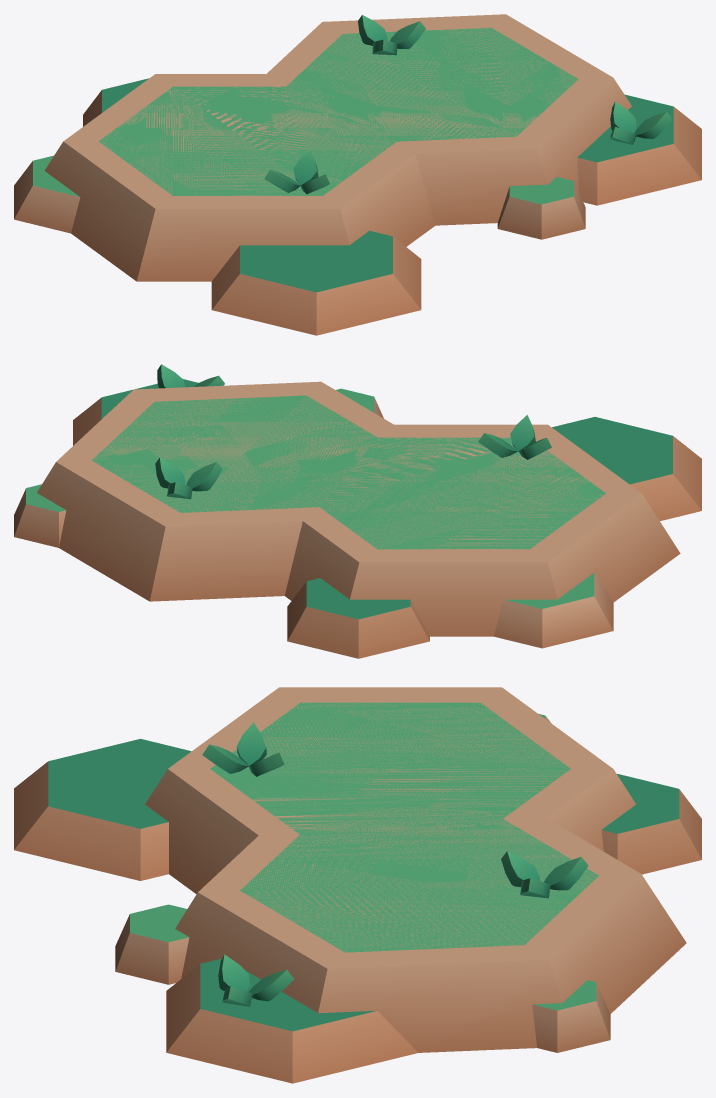
Rendered from rock-flat-grass.glb.
3 renders of one model, top to bottom at view 1: azimuth 30°, elevation 25°; view 2: azimuth 150°, elevation 25°; view 3: azimuth 270°, elevation 25°, orthographic. The views are drawn at different scales.
Visible parts, largest first — view 1: rock-flat-grass; view 2: rock-flat-grass; view 3: rock-flat-grass.
Boxes of the visible parts, x1=… form: rock-flat-grass: x1=14, y1=14, x2=701, y2=335; rock-flat-grass: x1=14, y1=364, x2=701, y2=658; rock-flat-grass: x1=14, y1=687, x2=701, y2=1083.
Bounding box in the file's own units: 1.79 × 0.2258 × 1.45.
